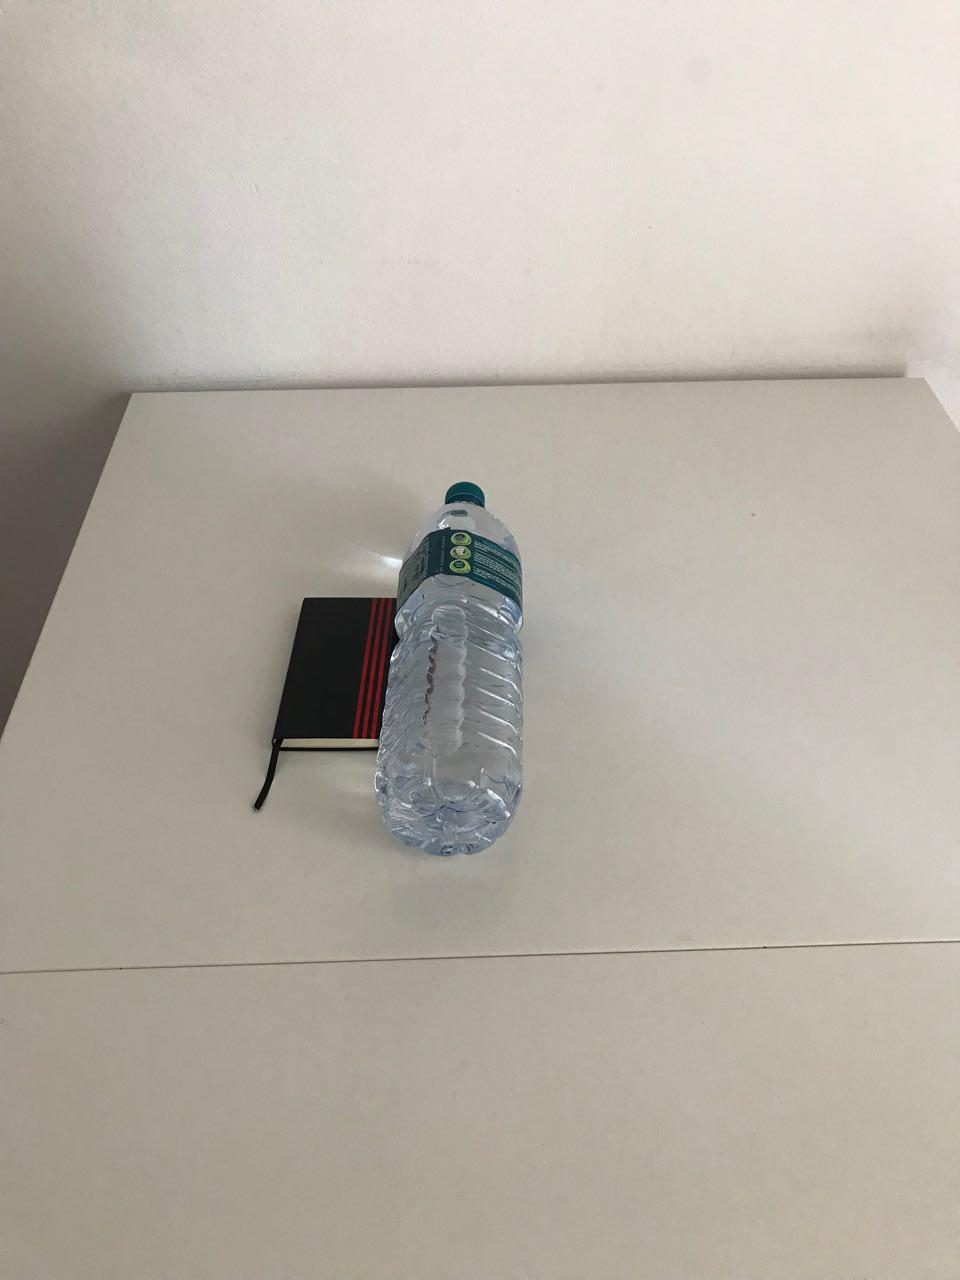san_bernardo: (371, 480, 523, 862)
